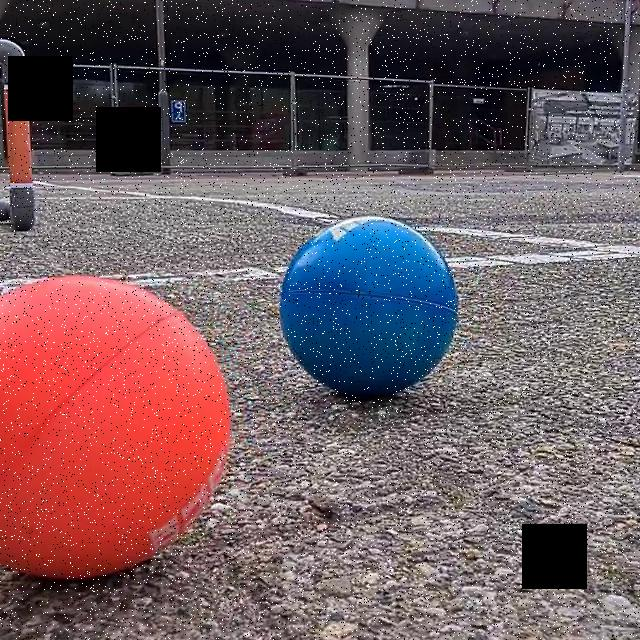ball: (0, 274, 234, 581), (278, 213, 462, 399)
